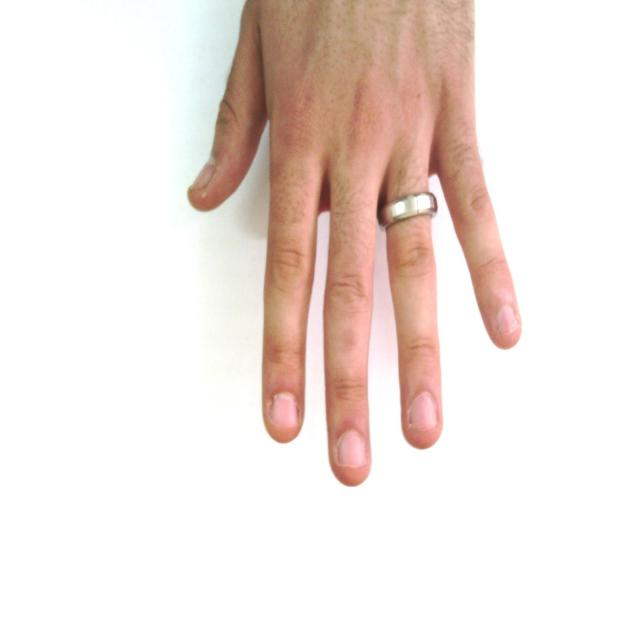others: (181, 0, 544, 487)
